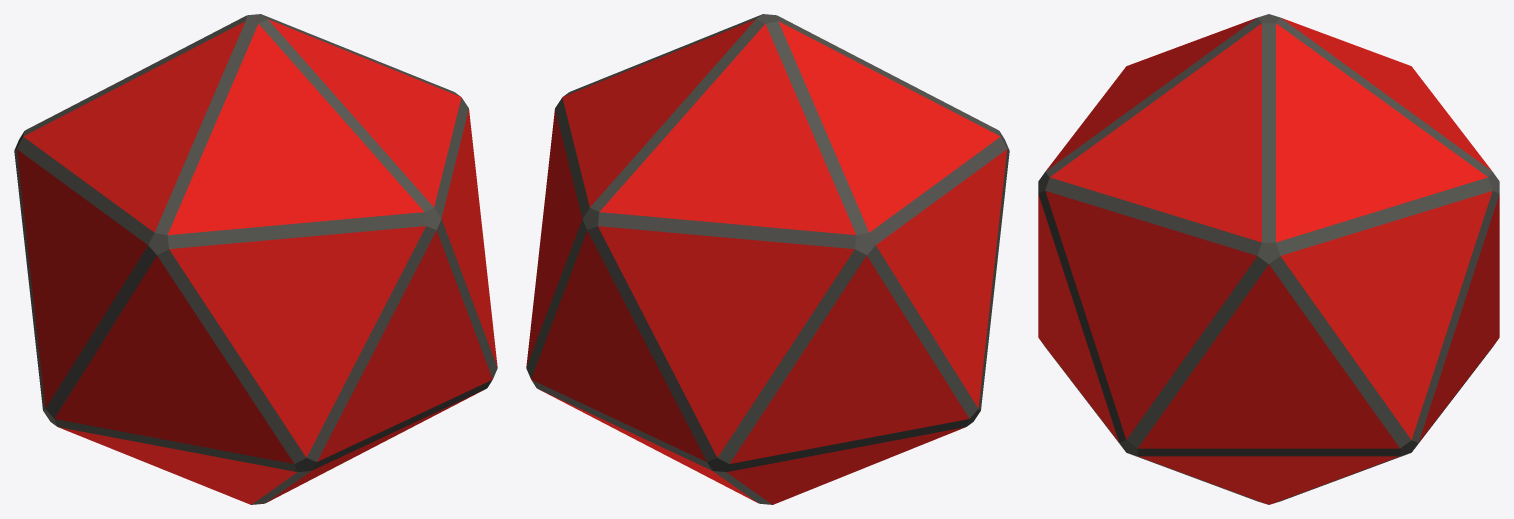
Rendered from Bonus_power.fbx.
3 views of the same model, side by side, from view 1: azimuth 30°, elevation 25°; view 2: azimuth 150°, elevation 25°; view 3: azimuth 270°, elevation 25° (orthographic).
Parts seen in each view (by area): view 1: Icosphere; view 2: Icosphere; view 3: Icosphere.
Part boxes in pixels (left/top/right/bottom): Icosphere: left=14, top=14, right=497, bottom=504; Icosphere: left=526, top=14, right=1009, bottom=504; Icosphere: left=1038, top=14, right=1499, bottom=504.
Bounding box in the file's own units: 193 × 211 × 183.
